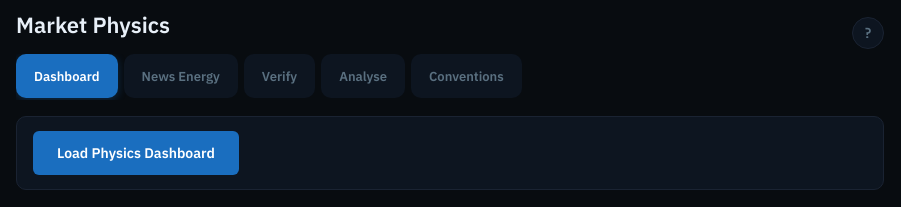
Test: Physics news-energy honesty states › renders an explicit unavailable state instead of fabricated zeros when no source has usable data
The image size is (901, 207).
What coordinates should you click on to do the following:
click the button "News Energy"
I would click on:
 (181, 76)
Its box is [124,54,238,98].
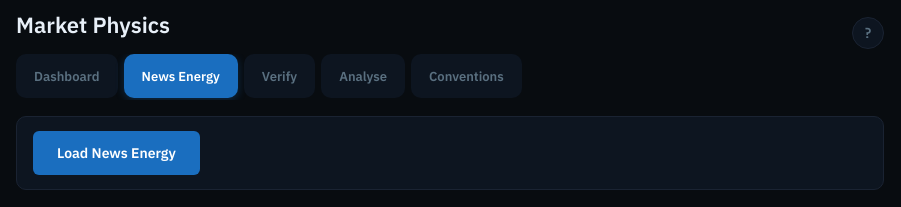
What coordinates should you click on to do the following:
click the button "Load News Energy"
I would click on:
 (116, 153)
Its box is [33,131,200,175].
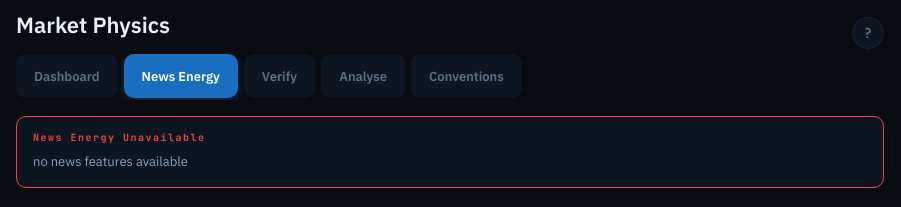
Expected: the text "News Energy Unavailable" is shown, [33,131,206,144]
Expected: the text "no news features available" is shown, [33,153,188,170]
